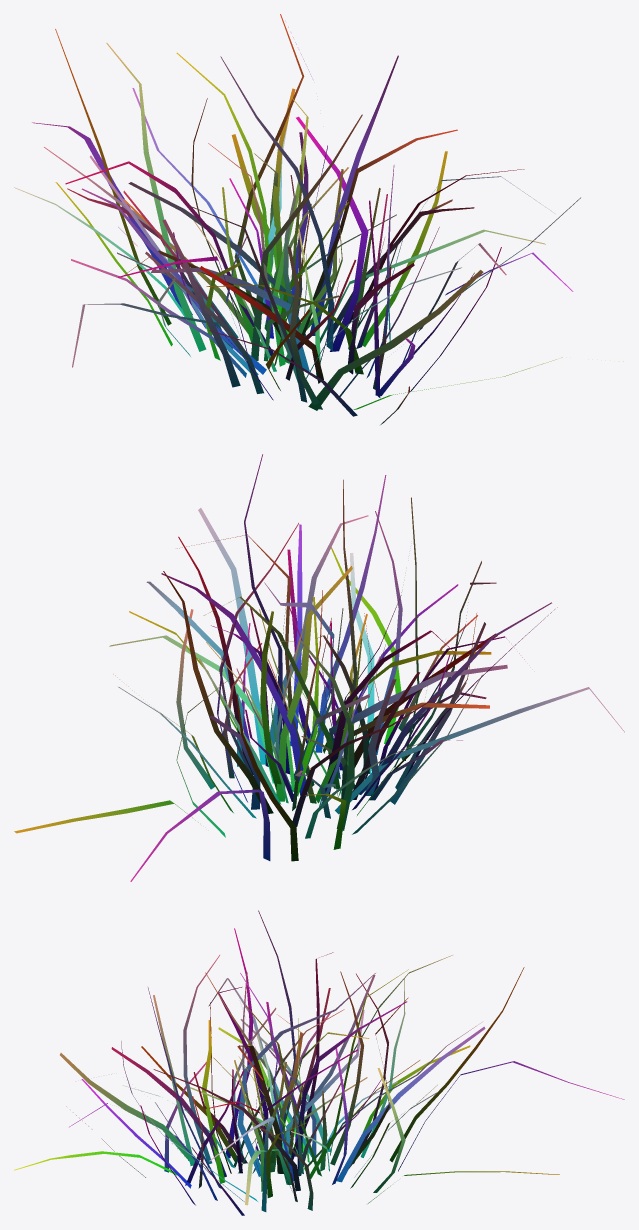
Rendered from Wild_Grass_vlkhcbxia_High_vlkhcbxia_VarH_LOD2.fbx.
The picture shows the model from 3 angles, top to bottom: view 1: azimuth 30°, elevation 25°; view 2: azimuth 150°, elevation 25°; view 3: azimuth 270°, elevation 25°; orthographic projection. The views are drawn at different scales.
Parts seen in each view (by area): view 1: _ll27_VarH_LOD3; view 2: _ll27_VarH_LOD3; view 3: _ll27_VarH_LOD3.
Part boxes in pixels (x1,y1,x2,y2): _ll27_VarH_LOD3: (14,14,623,424); _ll27_VarH_LOD3: (14,454,624,881); _ll27_VarH_LOD3: (14,910,624,1215).
Bounding box in the file's own units: 19.05 × 11.53 × 26.34.
